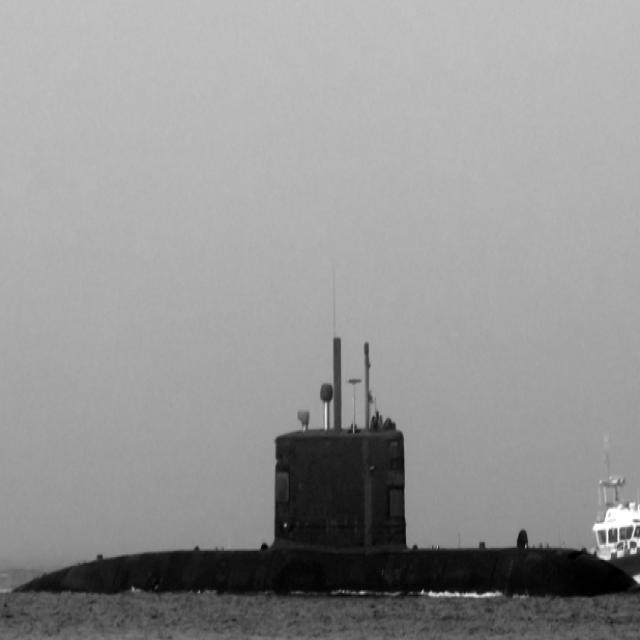submarine: (1, 338, 640, 594)
